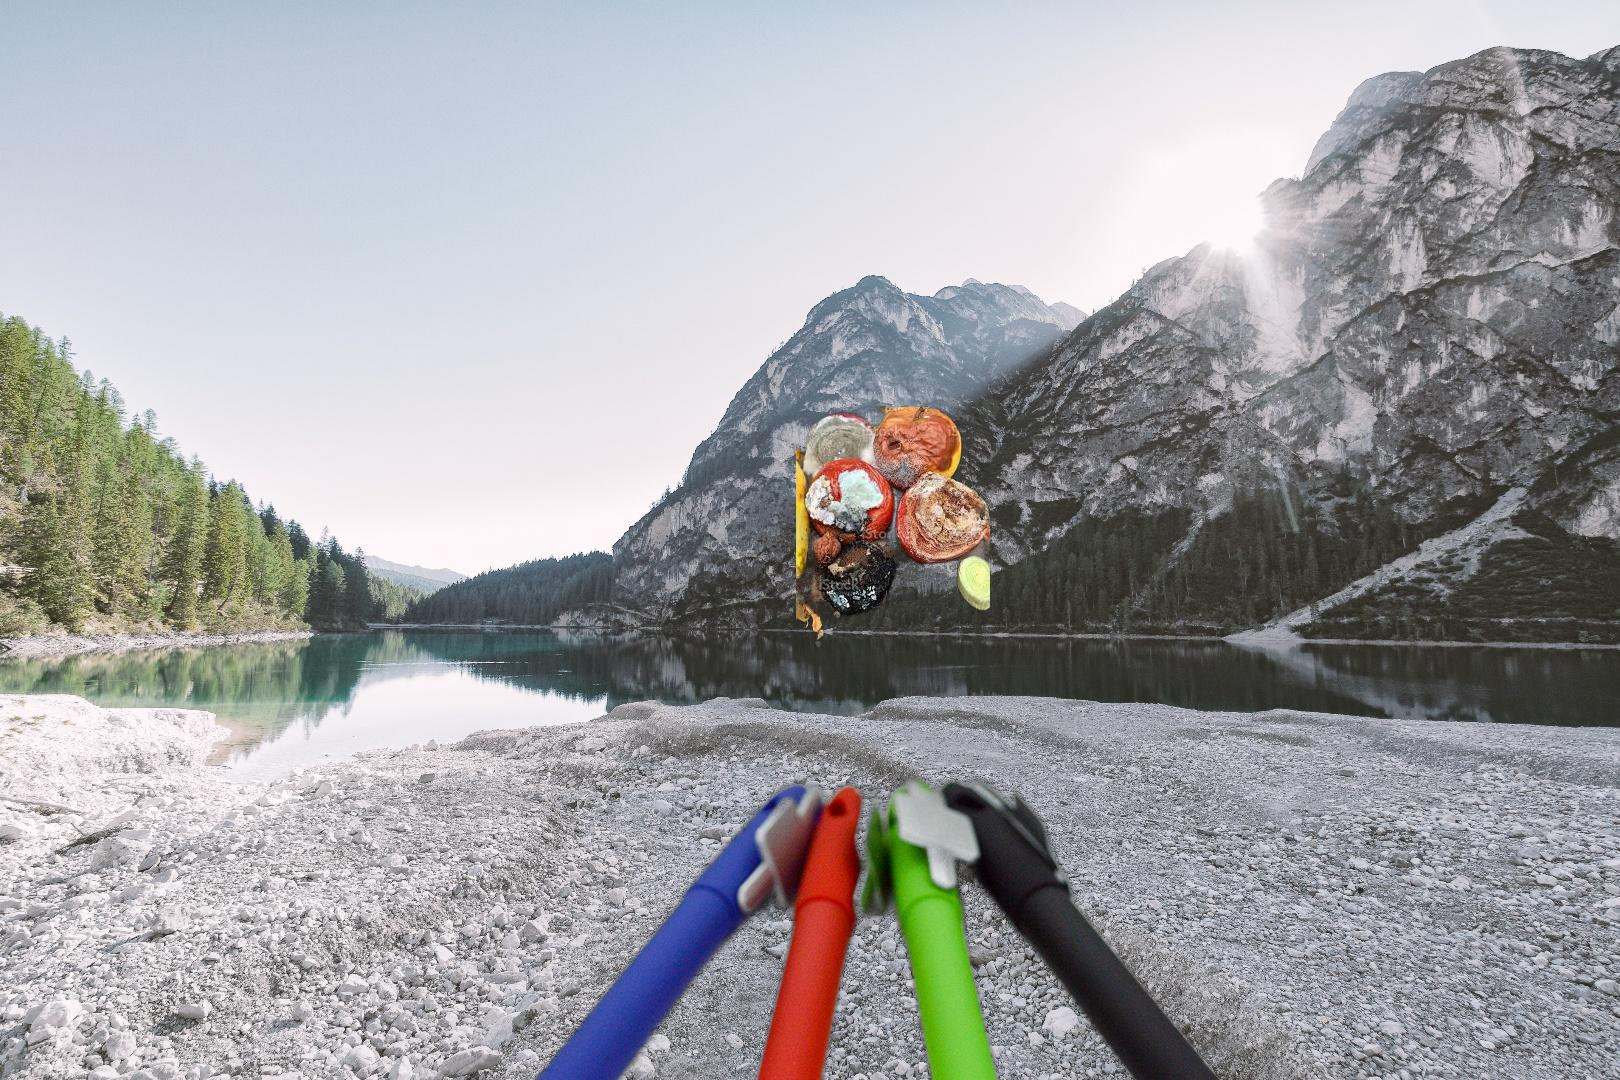biological: (796, 406, 990, 652)
penholder: (463, 769, 1301, 1080)
